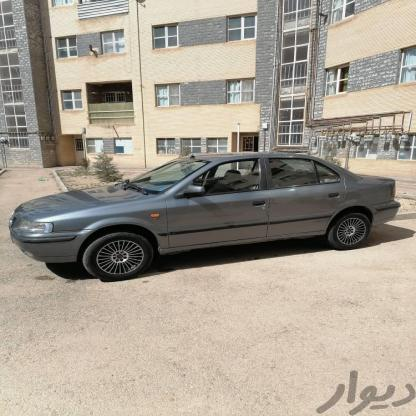Car: (0, 140, 416, 286)
